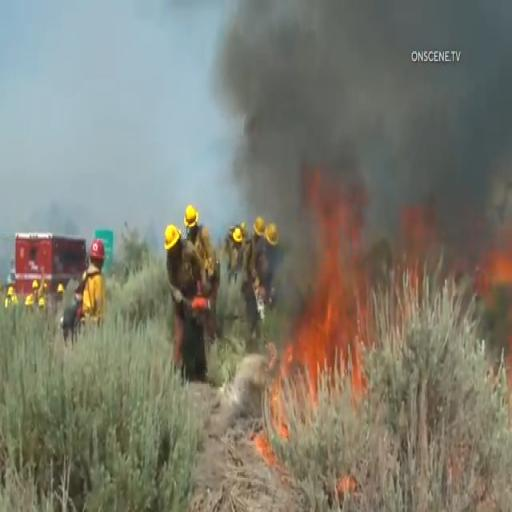fire: (280, 159, 363, 461), (485, 210, 512, 314)
smoke: (238, 4, 395, 158)
